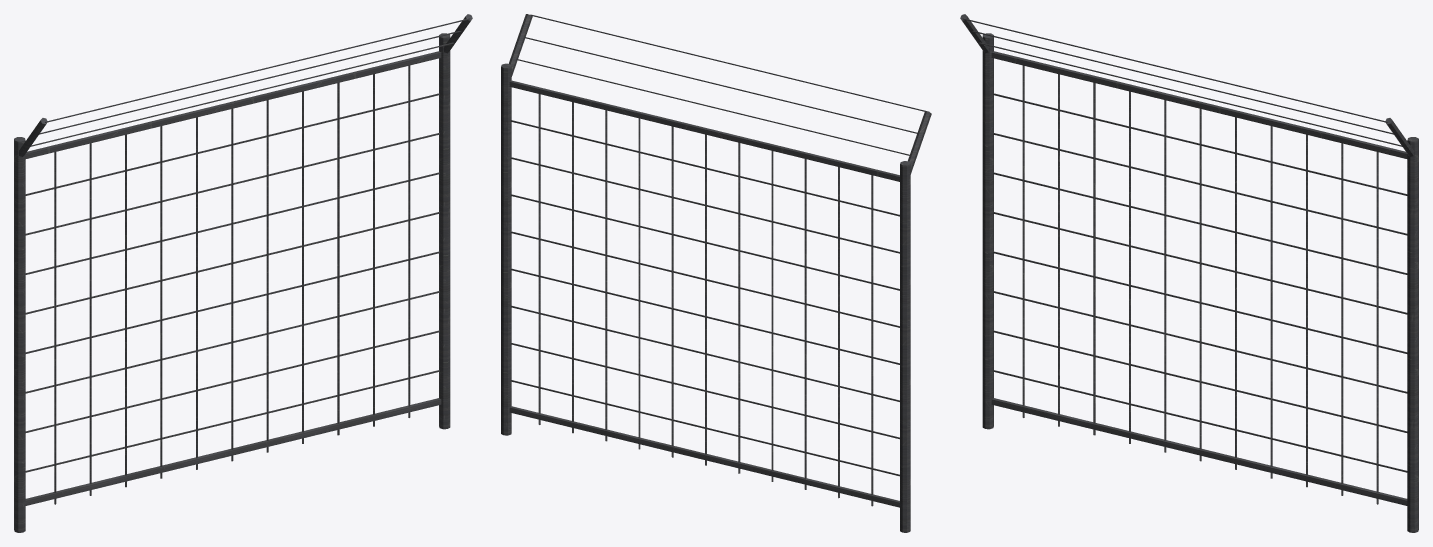
The model's file is chainlink.glb.
3 views of the same model, side by side, from view 1: azimuth 30°, elevation 25°; view 2: azimuth 150°, elevation 25°; view 3: azimuth 330°, elevation 25° (orthographic). The views are drawn at different scales.
Visible parts, largest first — view 1: chainlink; view 2: chainlink; view 3: chainlink.
Boxes of the visible parts, x1,y1,x2,y2 form: chainlink: [14, 14, 472, 532]; chainlink: [501, 14, 931, 532]; chainlink: [960, 14, 1418, 532].
Size of the model in its own units: 2.56 by 2.42 by 0.2941.
1 material, 1 textured.
